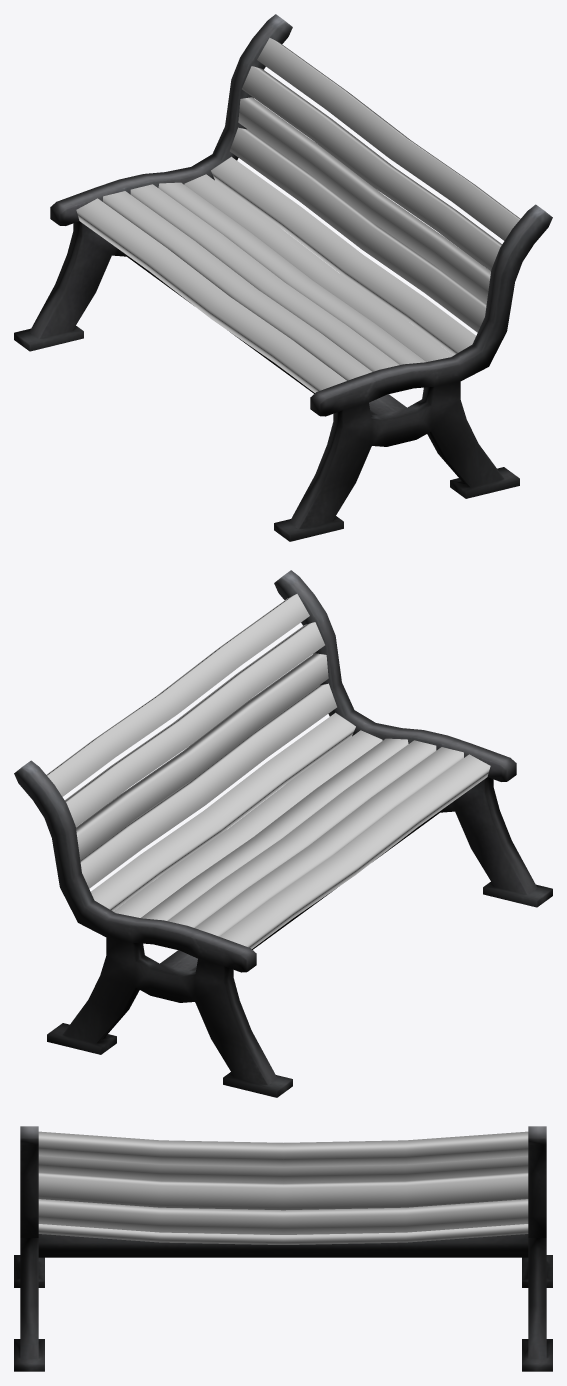
The model's file is Bench.fbx.
The picture shows the model from 3 angles, top to bottom: view 1: azimuth 30°, elevation 25°; view 2: azimuth 150°, elevation 25°; view 3: azimuth 270°, elevation 25°; orthographic projection. The views are drawn at different scales.
Parts seen in each view (by area): view 1: pCube46; view 2: pCube46; view 3: pCube46.
Part boxes in pixels (bbox=[...]): pCube46: bbox=[14, 14, 552, 541]; pCube46: bbox=[14, 570, 552, 1097]; pCube46: bbox=[14, 1126, 552, 1371].
Bounding box in the file's own units: 0.8871 × 0.8443 × 1.59.
